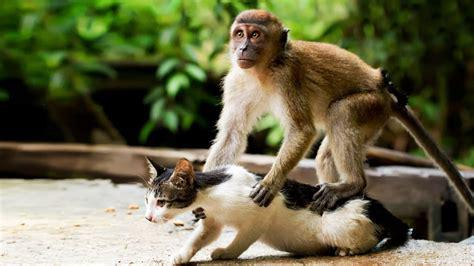cat: (144, 155, 408, 265)
monkey: (201, 9, 474, 210)
